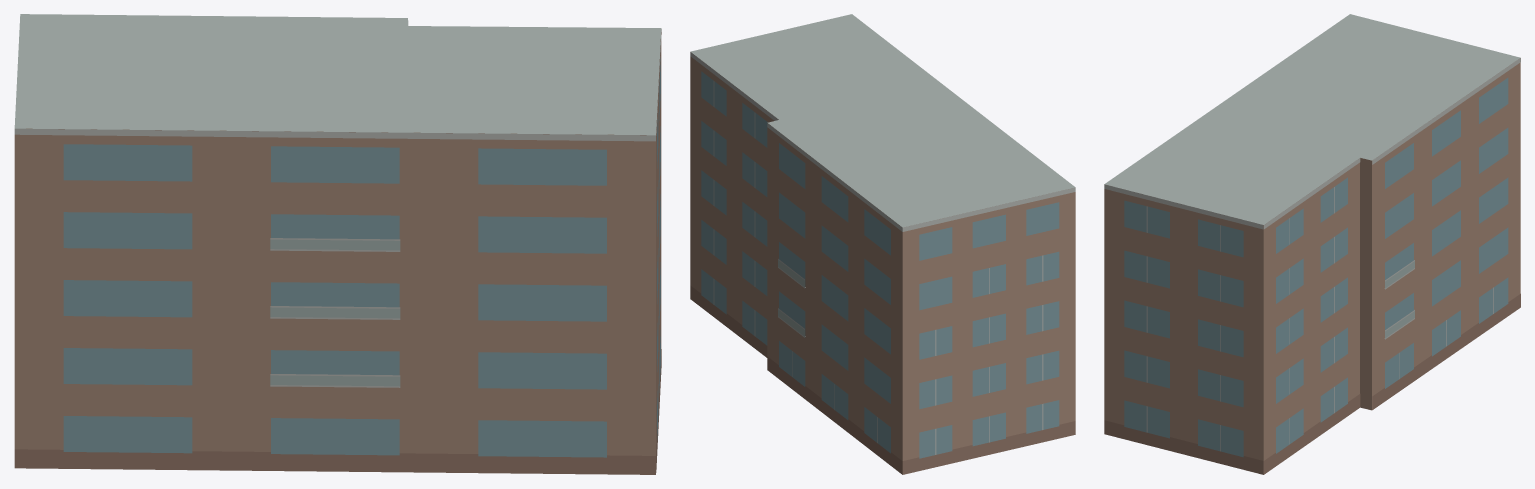
Rendered from survey-upis-32677600.glb.
3 renders of one model, left to right at view 1: azimuth 30°, elevation 25°; view 2: azimuth 150°, elevation 25°; view 3: azimuth 270°, elevation 25°, orthographic. The views are drawn at different scales.
Parts seen in each view (by area): view 1: survey-upis-32677600.tmp; view 2: survey-upis-32677600.tmp; view 3: survey-upis-32677600.tmp.
Part boxes in pixels (left/top/right/bottom): survey-upis-32677600.tmp: left=14, top=14, right=661, bottom=474; survey-upis-32677600.tmp: left=690, top=14, right=1075, bottom=474; survey-upis-32677600.tmp: left=1104, top=14, right=1520, bottom=474.
Bounding box in the file's own units: 24.38 × 13.45 × 20.33.
